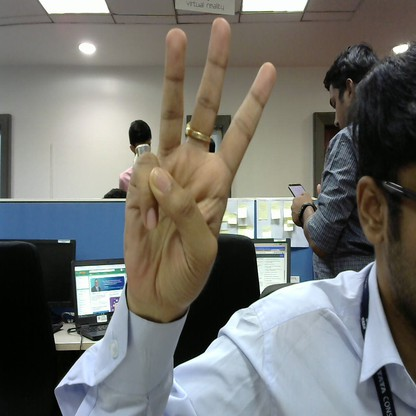w: (123, 15, 282, 304)
